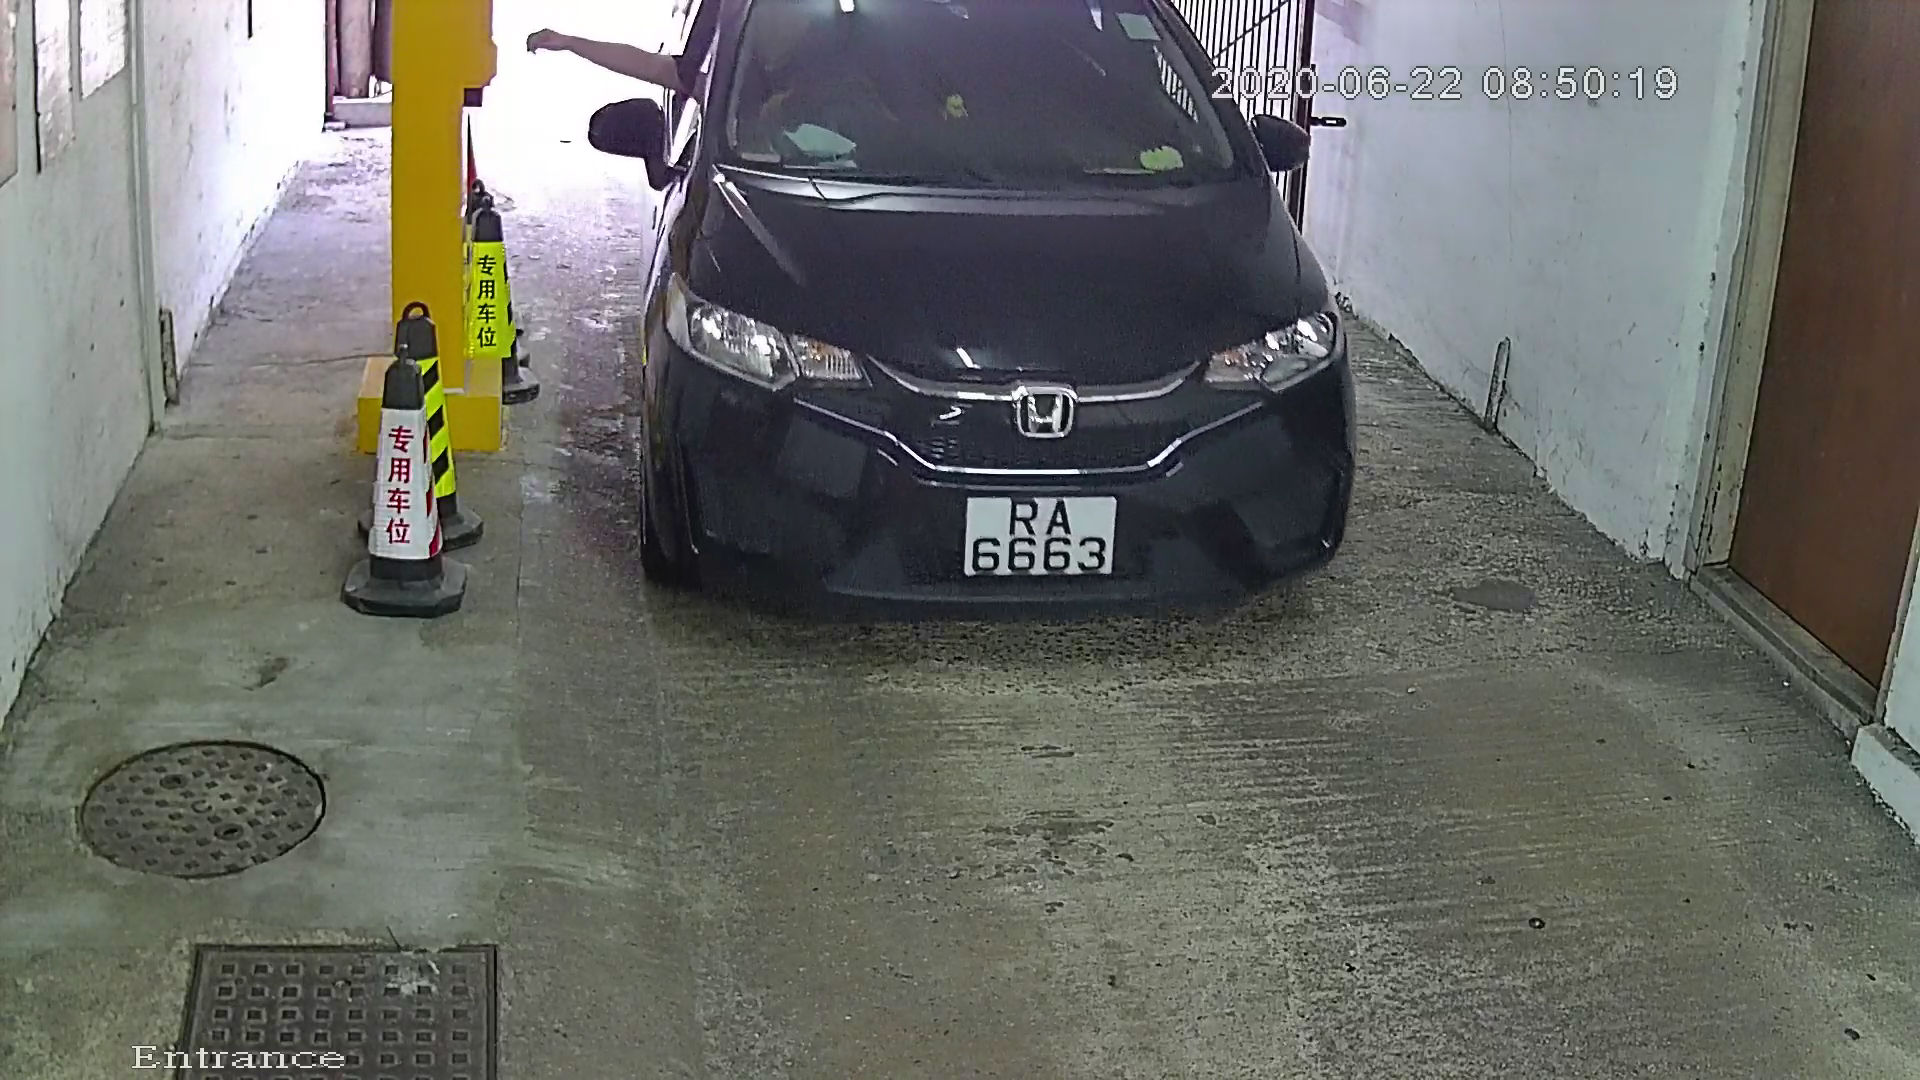privatecar: (556, 1, 1429, 694)
